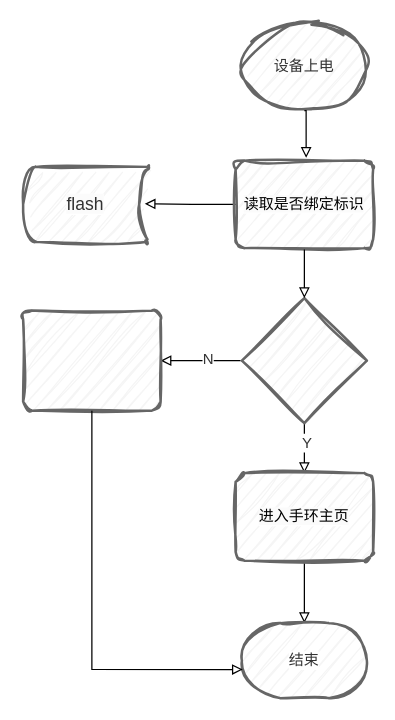
This 395x720 diagram has some shape labels left out. The centre of each missing label's shape, as x and y in pixels:
"已绑定" goes at pixel 304 360.
"显示绑定二维码" goes at pixel 91 360.
